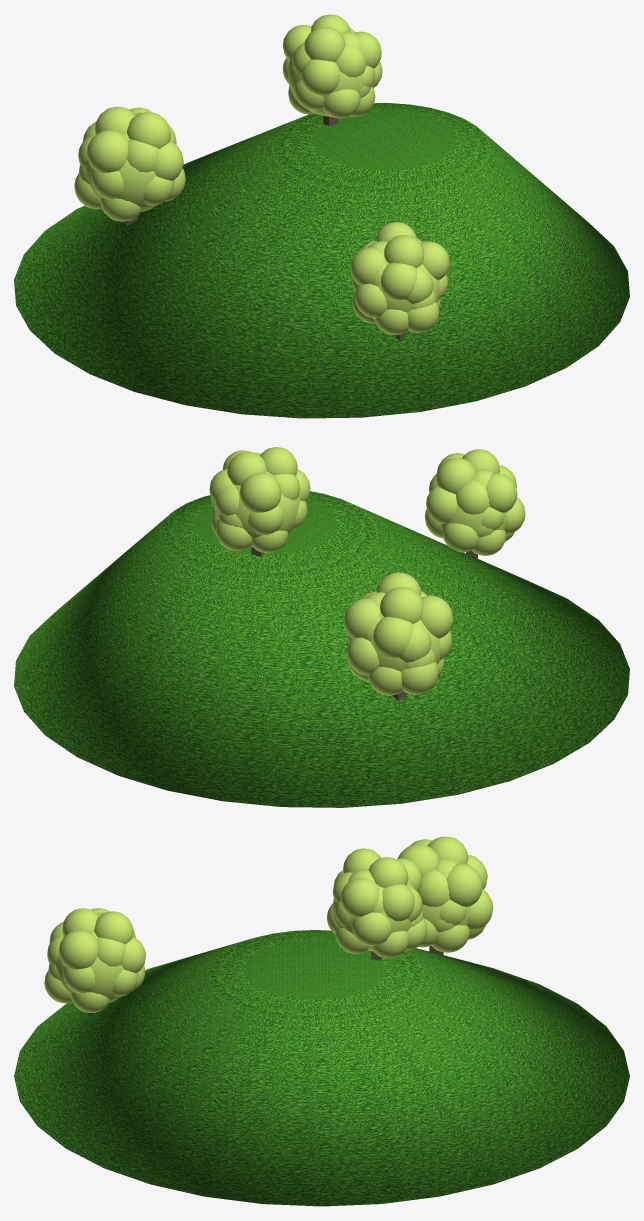
The model's file is Kulle.fbx.
The picture shows the model from 3 angles, top to bottom: view 1: azimuth 30°, elevation 25°; view 2: azimuth 150°, elevation 25°; view 3: azimuth 270°, elevation 25°; orthographic projection.
Visible parts, largest first — view 1: Kulle, Bush-stam.002, Bush-stam.001, Bush-stam; view 2: Kulle, Bush-stam.002, Bush-stam, Bush-stam.001; view 3: Kulle, Bush-stam, Bush-stam.001, Bush-stam.002.
Part boxes in pixels (left/top/right/bottom): Kulle: left=14, top=103, right=629, bottom=418; Bush-stam.002: left=74, top=106, right=185, bottom=225; Bush-stam.001: left=350, top=222, right=449, bottom=340; Bush-stam: left=282, top=14, right=382, bottom=126; Kulle: left=14, top=491, right=629, bottom=807; Bush-stam.002: left=344, top=572, right=453, bottom=701; Bush-stam: left=209, top=447, right=310, bottom=556; Bush-stam.001: left=425, top=449, right=525, bottom=558; Kulle: left=14, top=930, right=629, bottom=1206; Bush-stam: left=327, top=848, right=427, bottom=960; Bush-stam.001: left=44, top=908, right=145, bottom=1014; Bush-stam.002: left=397, top=836, right=493, bottom=955.
Size of the model in its own units: 1410 by 601 by 1410.
